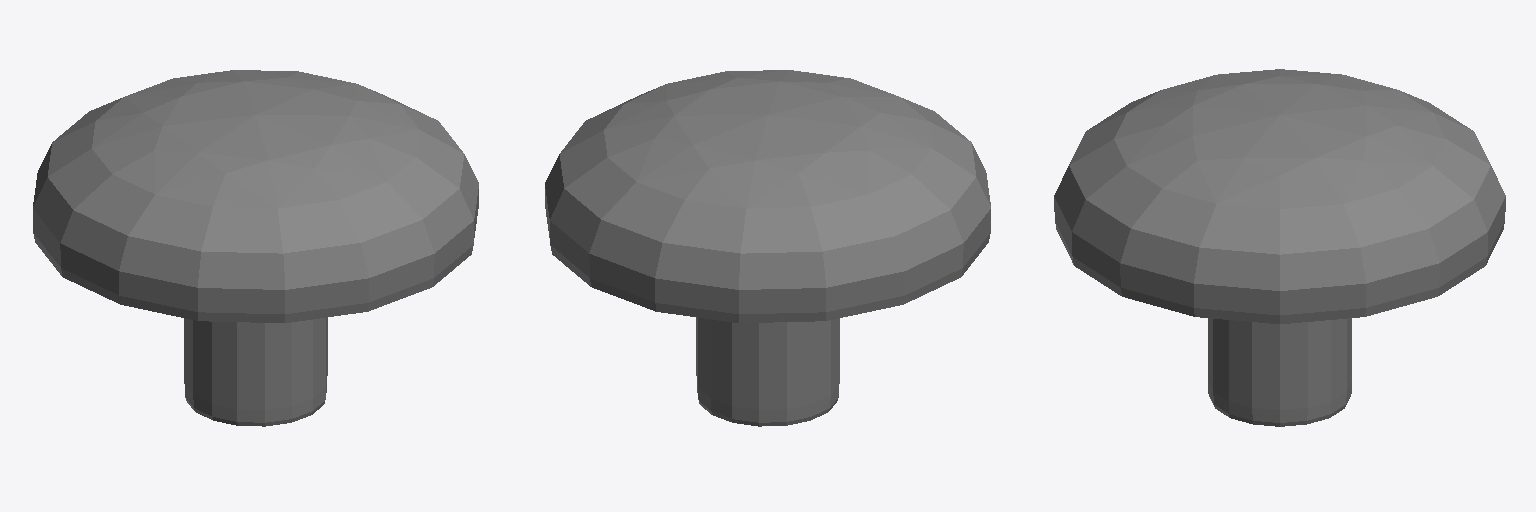
The model's file is Mushroom.OBJ.
3 renders of one model, left to right at view 1: azimuth 30°, elevation 25°; view 2: azimuth 150°, elevation 25°; view 3: azimuth 270°, elevation 25°, orthographic.
Visible parts, largest first — view 1: Group1; view 2: Group1; view 3: Group1.
Boxes of the visible parts, <box> form: Group1: <box>33,70,478,426</box>; Group1: <box>545,70,990,426</box>; Group1: <box>1054,69,1505,426</box>.
Size of the model in its own units: 83.28 by 57.4 by 83.28.